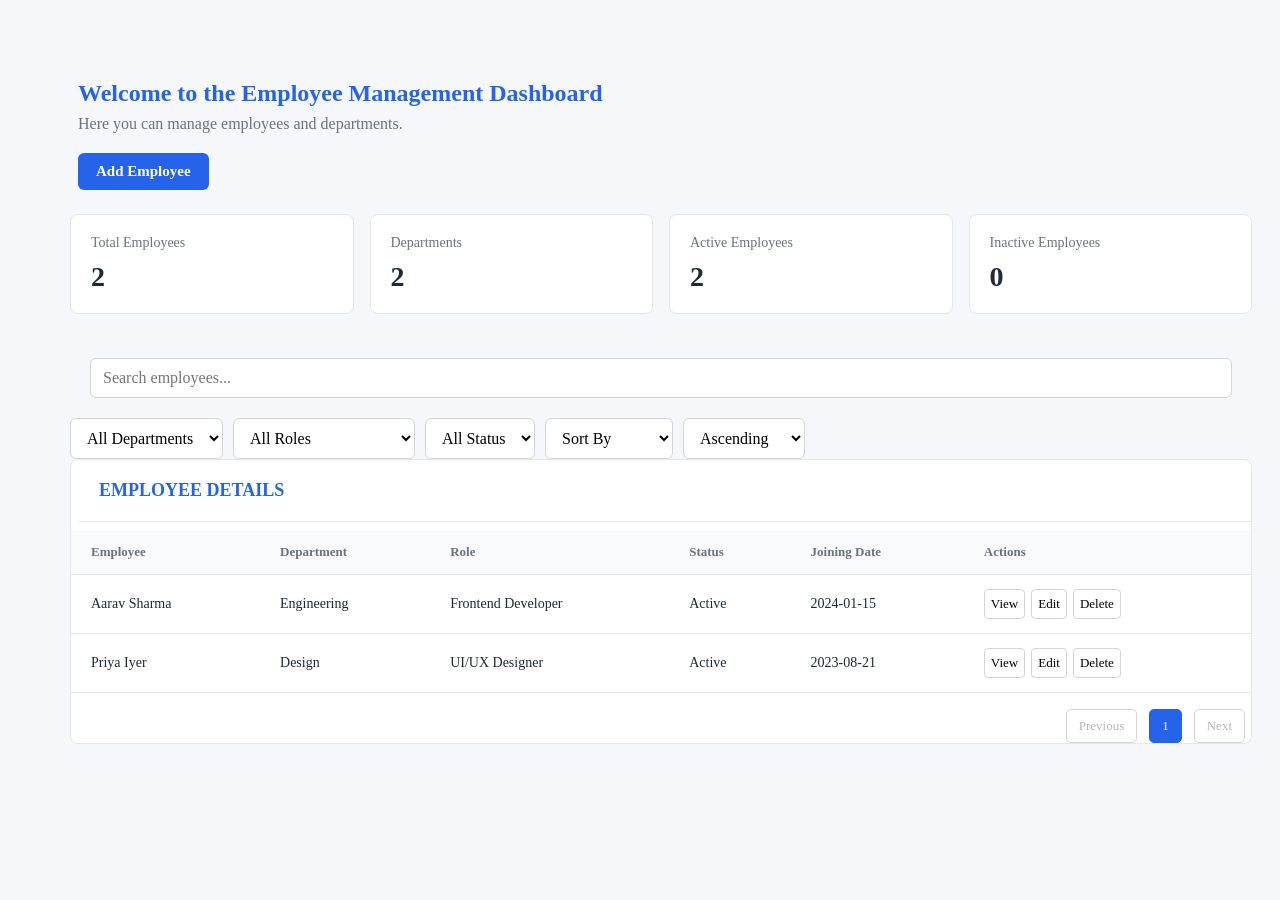
Test: Search › should search employee by first name
Type "Aarav" into the field with placeholder "Search employees...".
click(661, 378); type("Aarav")  # box [90, 358, 1232, 398]
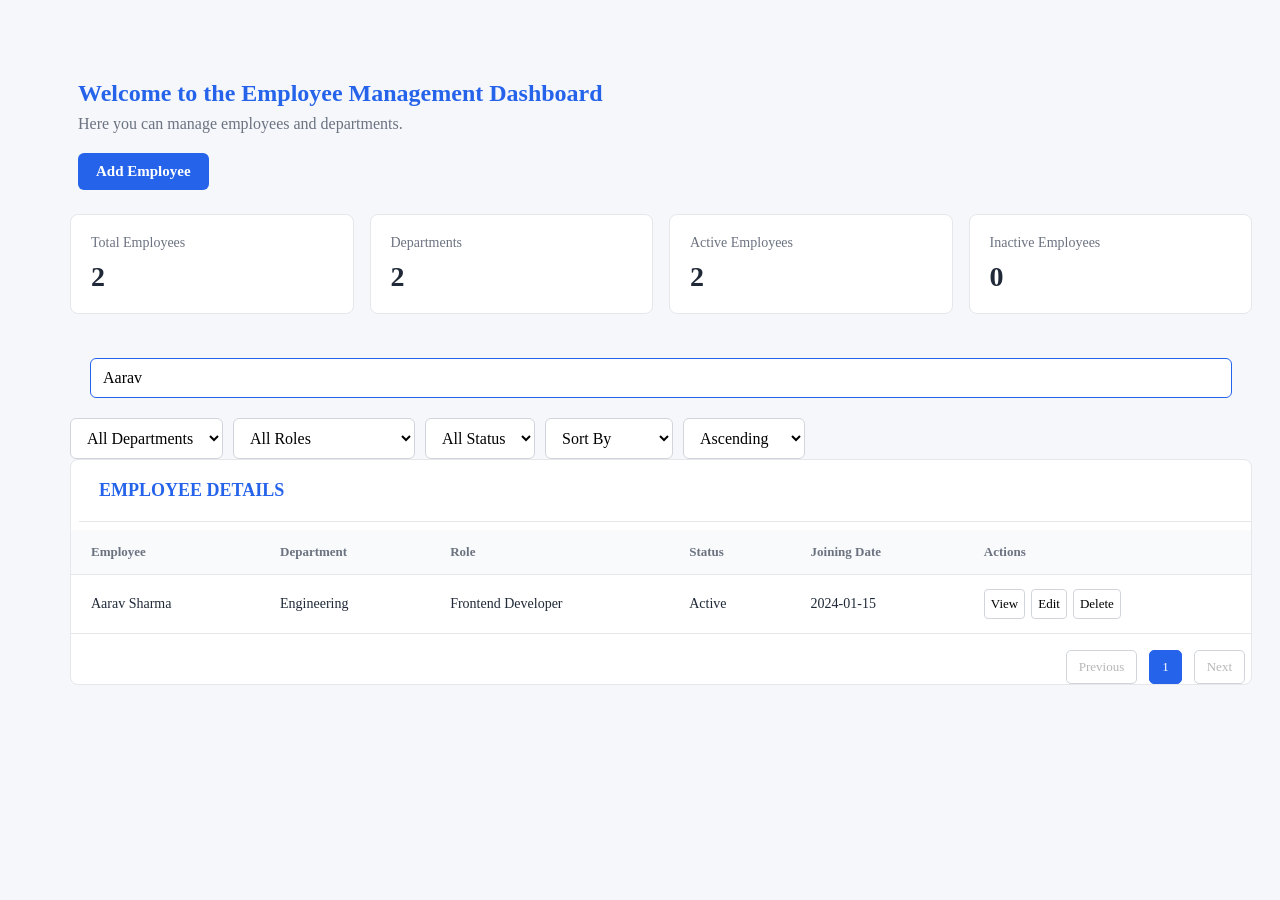
expect the text "Aarav Sharma" is shown: met, box [71, 574, 260, 634]
expect the text "Priya Iyer" is gone: met
